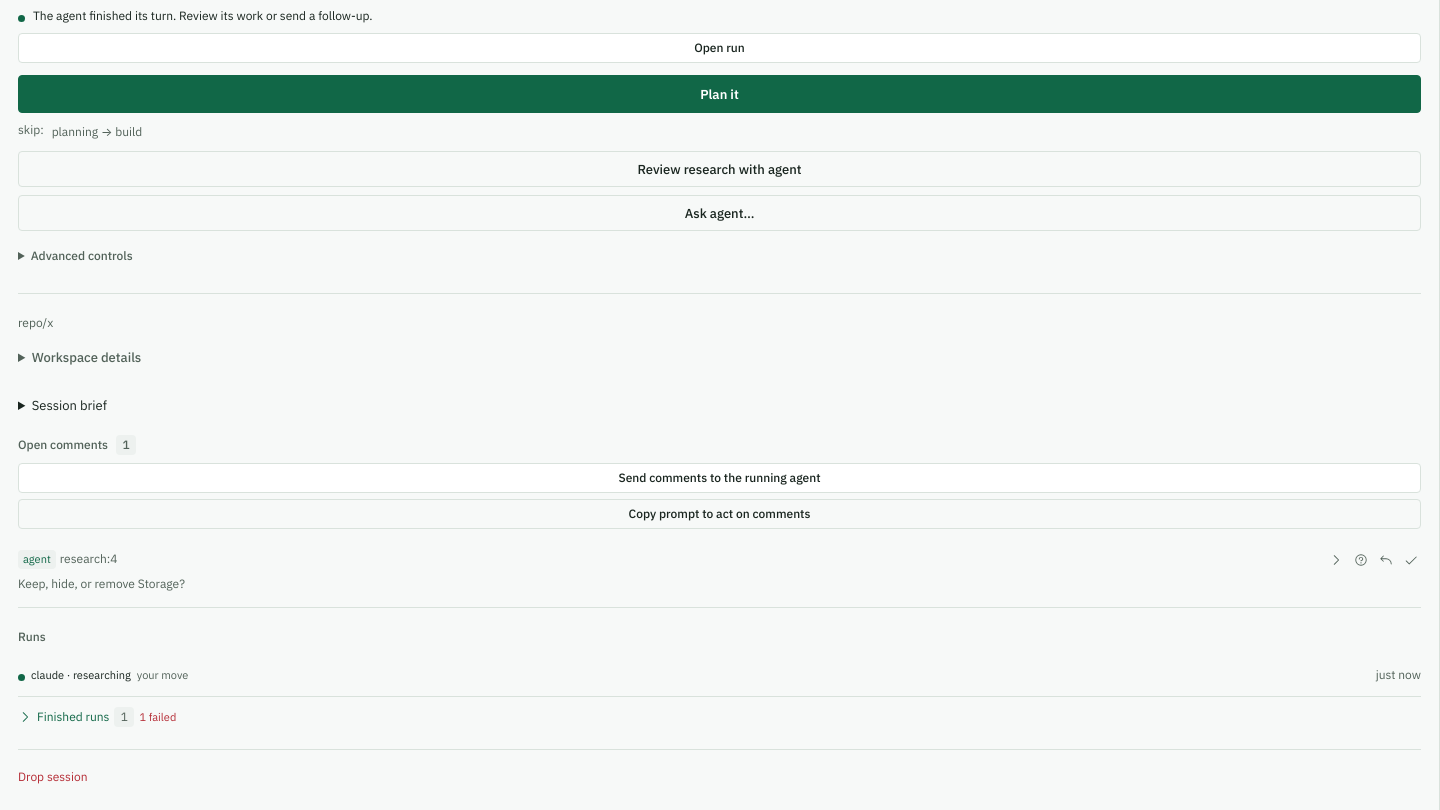
Test case: keeps stopped runs collapsed until opened and shows failures
This screenshot has width=1440, height=810.
(page scrolled)
Expected: the text "1 failed" is shown, [140, 709, 176, 726]
Click the button "Finished runs 1 1 failed" at (73, 717), box [18, 705, 1421, 729]
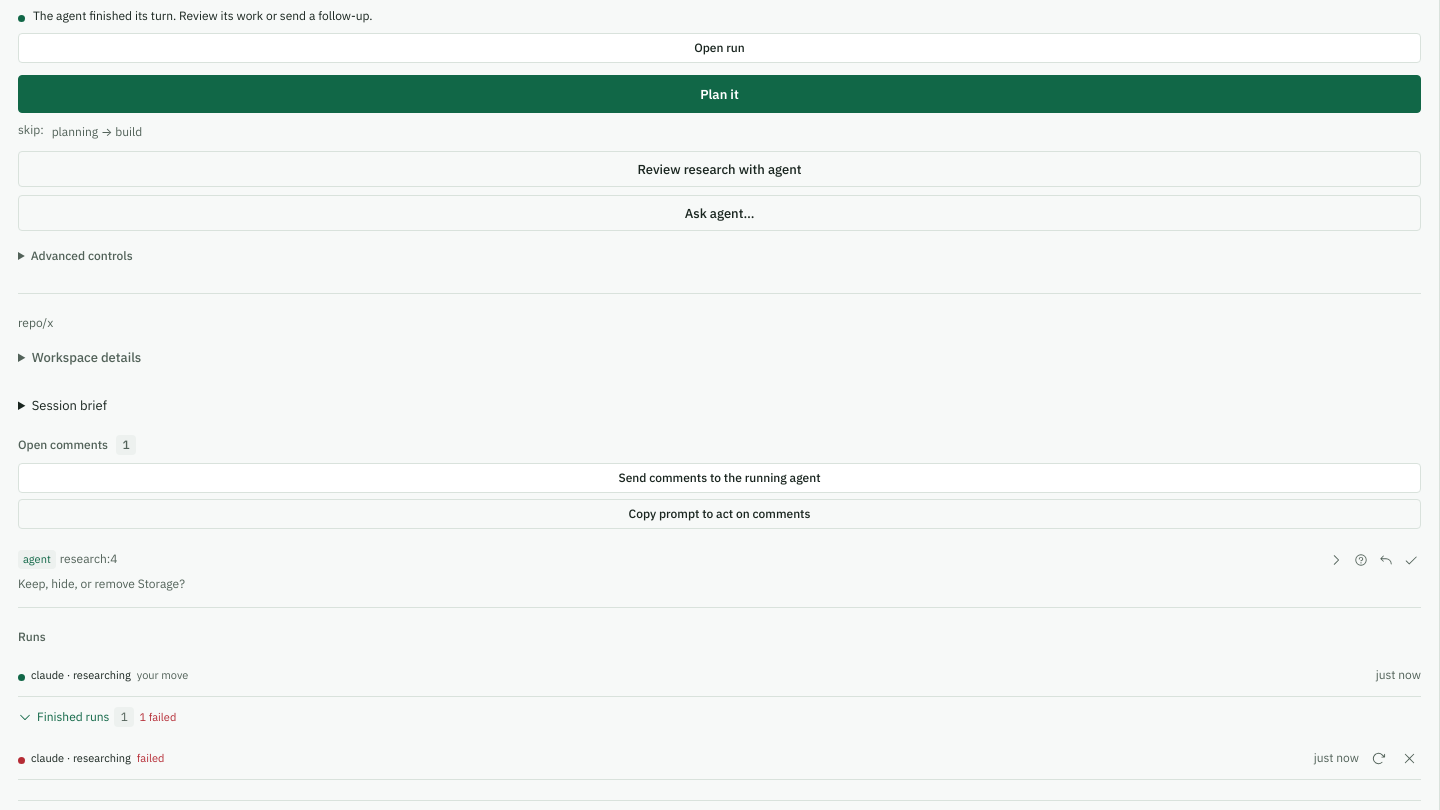
Expected: the button named "Open claude researching run, failed" is shown, [18, 743, 1359, 773]
